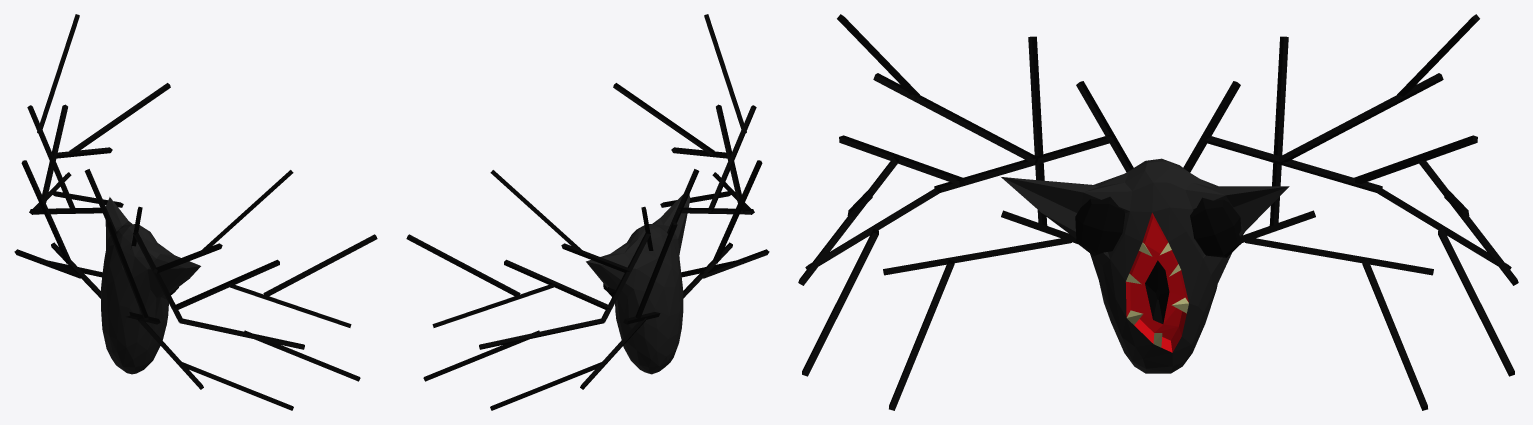
The model's file is terror.fbx.
The picture shows the model from 3 angles, left to right: view 1: azimuth 30°, elevation 25°; view 2: azimuth 150°, elevation 25°; view 3: azimuth 270°, elevation 25°; orthographic projection. The views are drawn at different scales.
Visible parts, largest first — view 1: spine, Cube; view 2: spine, Cube; view 3: spine, Cube, Cube.002, Cube.001.
Boxes of the visible parts, x1,y1,x2,y2 form: spine: (14,14,377,410); Cube: (101,197,200,374); spine: (406,14,769,410); Cube: (586,194,690,374); spine: (798,14,1518,410); Cube: (1001,158,1289,373); Cube.002: (1190,197,1242,257); Cube.001: (1075,197,1124,255).
Size of the model in its own units: 2471 by 3000 by 4956.
